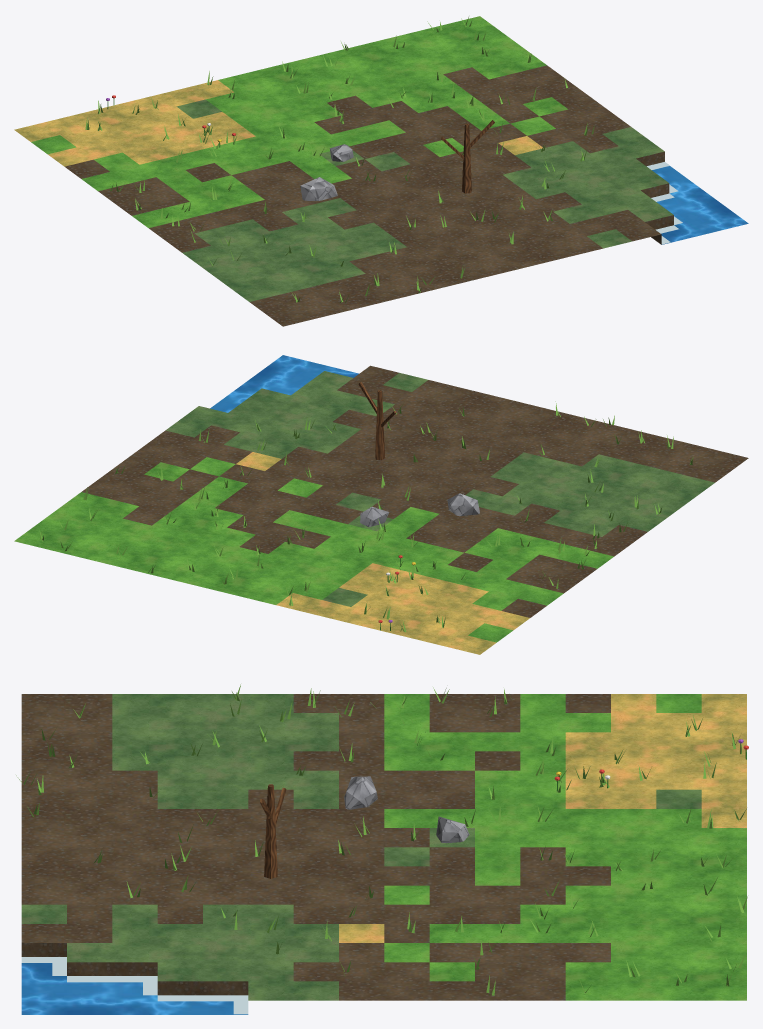
File: chunk_2_14.glb
The picture shows the model from 3 angles, top to bottom: view 1: azimuth 30°, elevation 25°; view 2: azimuth 150°, elevation 25°; view 3: azimuth 270°, elevation 25°; orthographic projection. The views are drawn at different scales.
Parts seen in each view (by area): view 1: chunk_2_14; view 2: chunk_2_14; view 3: chunk_2_14.
Boxes of the visible parts, <box> form: chunk_2_14: <box>14,16,748,326</box>; chunk_2_14: <box>14,355,748,654</box>; chunk_2_14: <box>16,684,748,1014</box>.
Bounding box in the file's own units: 16 × 2.58 × 16.21.
14 materials, 8 textured.
